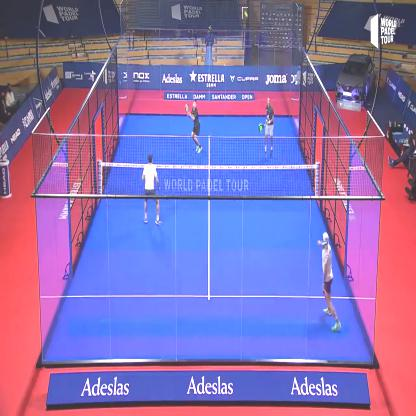ball: (242, 7, 249, 20)
